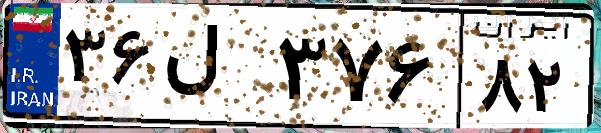2: (525, 38, 570, 115)
3: (270, 28, 330, 110), (57, 26, 110, 100)
6: (385, 28, 445, 110), (110, 28, 158, 98)
7: (330, 28, 385, 110)
8: (475, 38, 525, 113)
ل: (158, 20, 270, 120)
